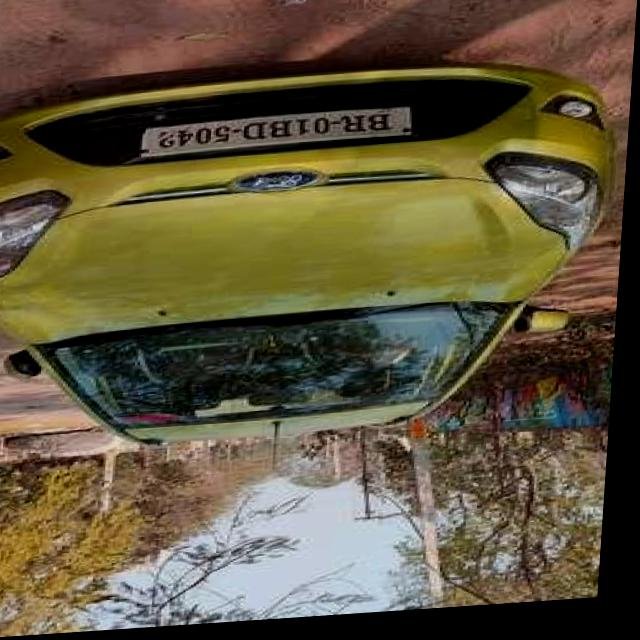0: (195, 130, 217, 147), (313, 121, 334, 138)
1: (294, 121, 314, 139)
2: (156, 133, 181, 151)
4: (177, 132, 197, 149)
5: (215, 127, 235, 147)
b: (366, 118, 395, 139), (268, 124, 294, 143)
d: (244, 126, 266, 144)
r: (341, 119, 368, 138)
